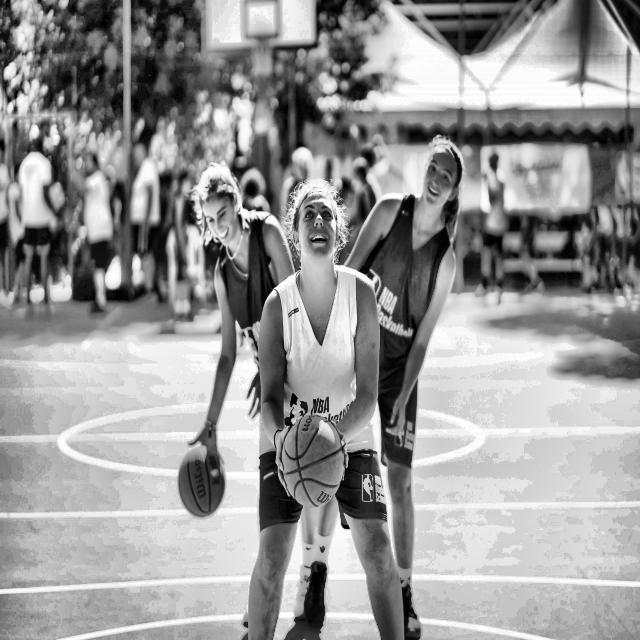Basketball: (280, 415, 346, 508), (178, 446, 225, 517)
